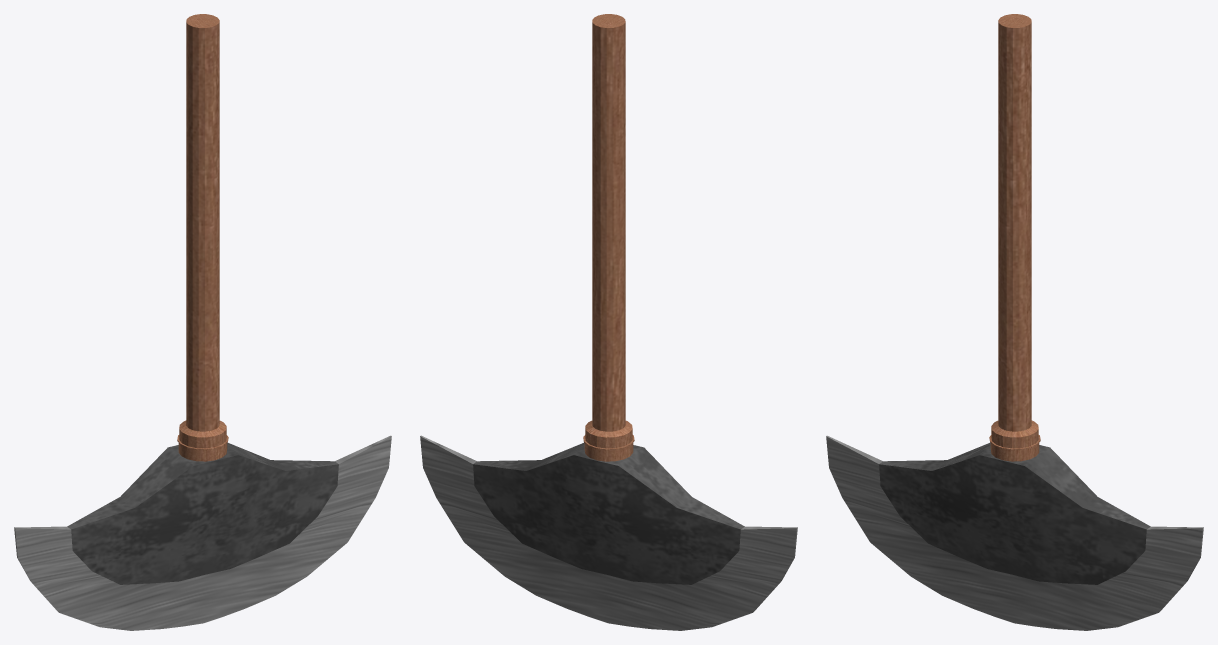
The model's file is ono_usami.fbx.
The picture shows the model from 3 angles, left to right: view 1: azimuth 30°, elevation 25°; view 2: azimuth 150°, elevation 25°; view 3: azimuth 330°, elevation 25°; orthographic projection.
Parts seen in each view (by area): view 1: ono_ha; view 2: ono_ha; view 3: ono_ha.
Part boxes in pixels (x1=…): ono_ha: x1=14, y1=14, x2=391, y2=630; ono_ha: x1=420, y1=14, x2=797, y2=630; ono_ha: x1=826, y1=14, x2=1203, y2=630.
Bounding box in the file's own units: 15.83 × 24.16 × 1.88.
Materials: 2 (2 with a texture image).
